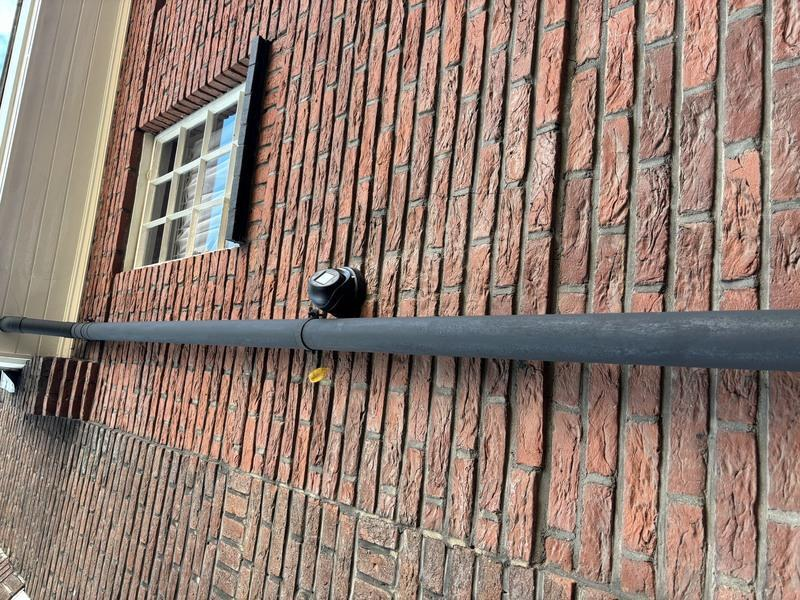turret: (286, 308, 340, 362)
